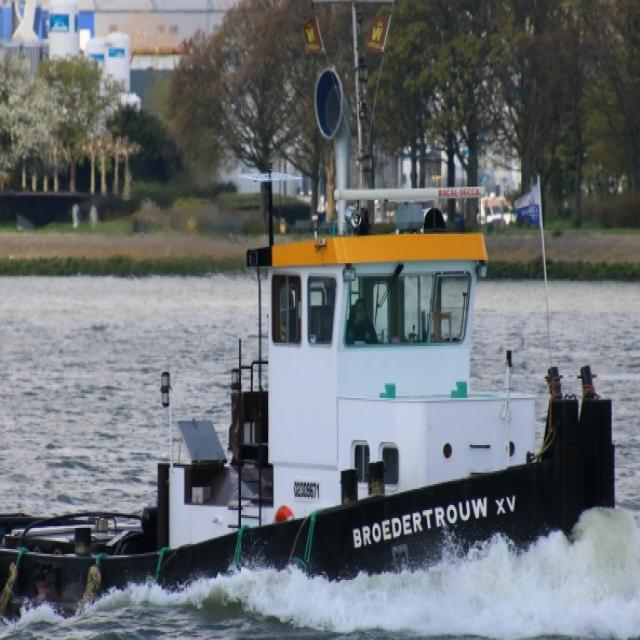tugboat: (1, 1, 623, 640)
